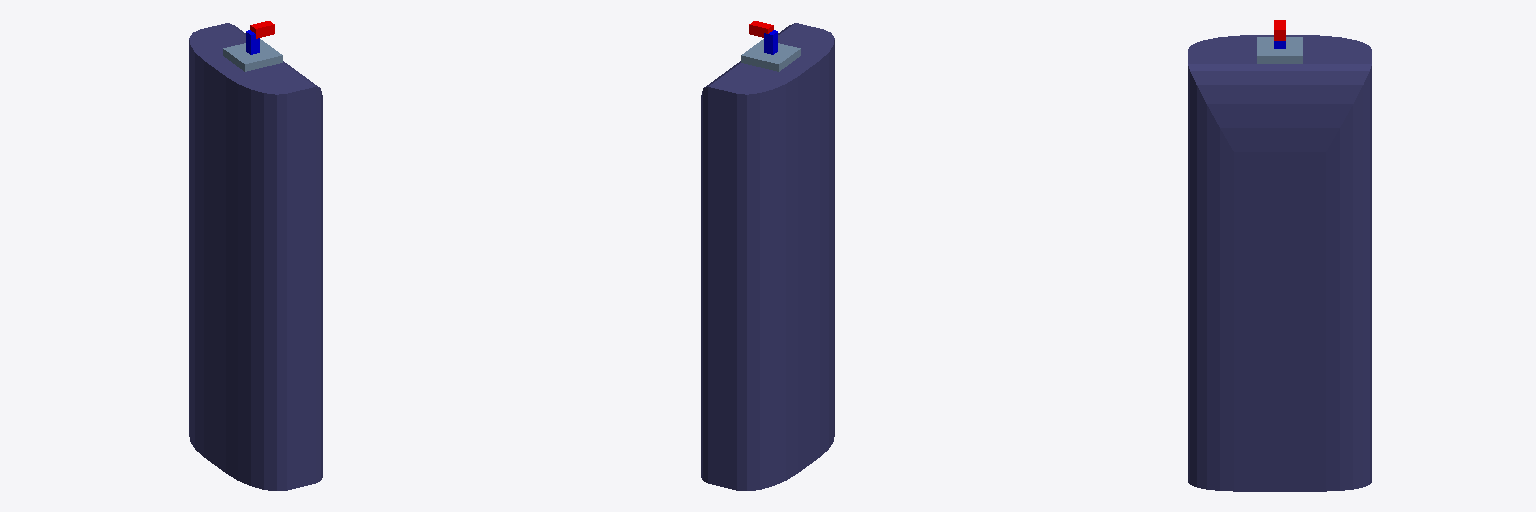
URDF robot description (gopher_torso):
<robot name="gopher_torso">
  <link name="torso">
    <inertial>
      <origin rpy="0 0 0" xyz="0.0 0.0 00.0" />
      <mass value="10.0" />
      <inertia ixx="1.225" ixy="0.0099" ixz="0.0062" iyy="1.2853" iyz="-0.0034" izz="0.987" />
    </inertial>
    <visual>
      <origin rpy="0 0 0" xyz="0 0 0" />
      <geometry>
        <mesh filename="package://gopher_description/meshes/torso.STL" />
      </geometry>
      <material name="">
        <color rgba="0.3 0.3 0.5 1" />
      </material>
    </visual>
    <collision>
      <origin rpy="0 0 0" xyz="0 0 0" />
      <geometry>
        <mesh filename="package://gopher_description/meshes/torso.STL" />
      </geometry>
    </collision>
  </link>
  <link name="main_cam_support">
    <collision>
      <origin rpy="0 0 0" xyz="0 0 0.01"/>
      <geometry>
        <box size="0.08 0.08 0.02"/>
      </geometry>
    </collision>
    <visual>
      <origin rpy="0 0 0" xyz="0 0 0.01"/>
      <geometry>
        <box size="0.08 0.08 0.02"/>
      </geometry>
      <material name="">
        <color rgba="0.5 0.6 0.7 1"/>
      </material>
    </visual>
    <inertial>
      <origin rpy="0 0 0" xyz="0 0 0.01"/>
      <mass value="0.2"/>
      <inertia ixx="3.33333333333e-05" ixy="0.0" ixz="0.0" iyy="3.33333333333e-05" iyz="0.0" izz="5.33333333333e-05"/>
    </inertial>
  </link>
  <joint name="main_cam_support_joint" type="fixed">
    <parent link="torso"/>
    <child link="main_cam_support"/>
    <origin rpy="0 0 0" xyz="0.0 0.0 0.8"/>
    <axis xyz="0 0 1"/>
  </joint>
  <link name="main_cam_yaw_link">
    <collision>
      <origin rpy="0 0 0" xyz="0 0 0.02"/>
      <geometry>
        <box size="0.02 0.02 0.04"/>
      </geometry>
    </collision>
    <visual>
      <origin rpy="0 0 0" xyz="0 0 0.02"/>
      <geometry>
        <box size="0.02 0.02 0.04"/>
      </geometry>
      <material name="blue">
        <color rgba="0 0 1 1"/>
      </material>
    </visual>
    <inertial>
      <origin rpy="0 0 0" xyz="0 0 0.02"/>
      <mass value="0.5"/>
      <inertia ixx="7.9e-02" ixy="0.0" ixz="0.0" iyy="7.9e-02" iyz="0.0" izz="2.5e-02"/>
    </inertial>
  </link>
  <joint name="main_cam_yaw_joint" type="revolute">
    <parent link="main_cam_support"/>
    <child link="main_cam_yaw_link"/>
    <origin rpy="0 0 0" xyz="0 0 0.02"/>
    <axis xyz="0 0 1"/>
    <limit effort="20" lower="-1.047" upper="1.047" velocity="1.0"/>
  </joint>
  <link name="main_cam_pitch_link">
    <collision>
      <origin rpy="0 0 0" xyz="0.02 0 0"/>
      <geometry>
        <box size="0.04 0.02 0.02"/>
      </geometry>
    </collision>
    <visual>
      <origin rpy="0 0 0" xyz="0.02 0 0"/>
      <geometry>
        <box size="0.04 0.02 0.02"/>
      </geometry>
      <material name="red">
        <color rgba="1 0 0 1"/>
      </material>
    </visual>
    <inertial>
      <origin rpy="0 0 0" xyz="0 0 0"/>
      <mass value="0.5"/>
      <inertia ixx="7.9e-02" ixy="0.0" ixz="0.0" iyy="7.9e-02" iyz="0.0" izz="2.5e-02"/>
    </inertial>
  </link>
  <joint name="main_cam_pitch_joint" type="revolute">
    <parent link="main_cam_yaw_link"/>
    <child link="main_cam_pitch_link"/>
    <origin rpy="1.57 0 0" xyz="0.0 0.0 0.04"/>
    <axis xyz="0 0 1"/>
    <limit effort="20" lower="-1.047" upper="1.047" velocity="1.0"/>
  </joint>
  <material name="aluminum">
    <color rgba="0.5 0.5 0.5 1"/>
  </material>
</robot>

--- Render facts (derived) ---
Views: 3 orthographic renders of the robot side by side, from view 1: azimuth 30°, elevation 25°; view 2: azimuth 150°, elevation 25°; view 3: azimuth 270°, elevation 25°.
Robot: gopher_torso — 4 links, 3 joints (2 revolute, 1 fixed); root link torso; default pose: every joint at zero.
Visible links, largest first — view 1: torso, main_cam_support; view 2: torso, main_cam_support; view 3: torso, main_cam_support.
Boxes of the visible links, bbox=[...] form: torso: bbox=[189, 23, 322, 490]; main_cam_support: bbox=[223, 39, 282, 71]; torso: bbox=[701, 23, 834, 490]; main_cam_support: bbox=[741, 39, 800, 71]; torso: bbox=[1188, 35, 1371, 491]; main_cam_support: bbox=[1257, 37, 1302, 63].
Size in the robot's own frame: 0.16 by 0.32 by 0.865 metres.
Meshes: 1 distinct files referenced, 1 mesh visuals loaded (1 binary STL).